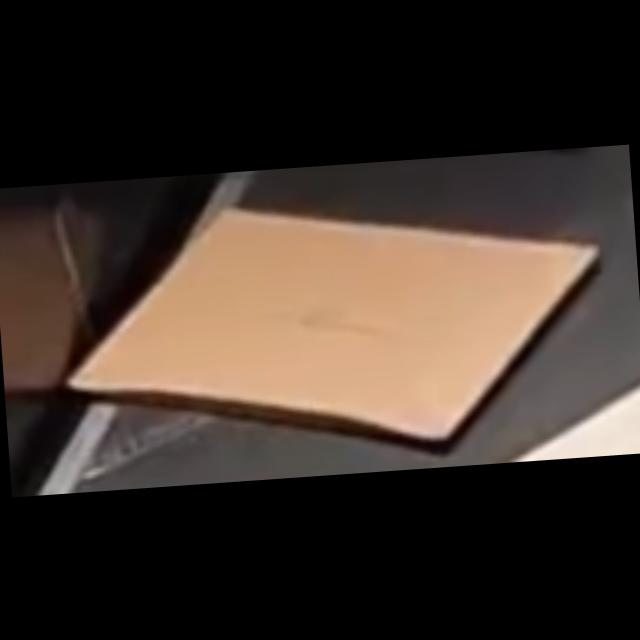mailer: (53, 182, 612, 470)
